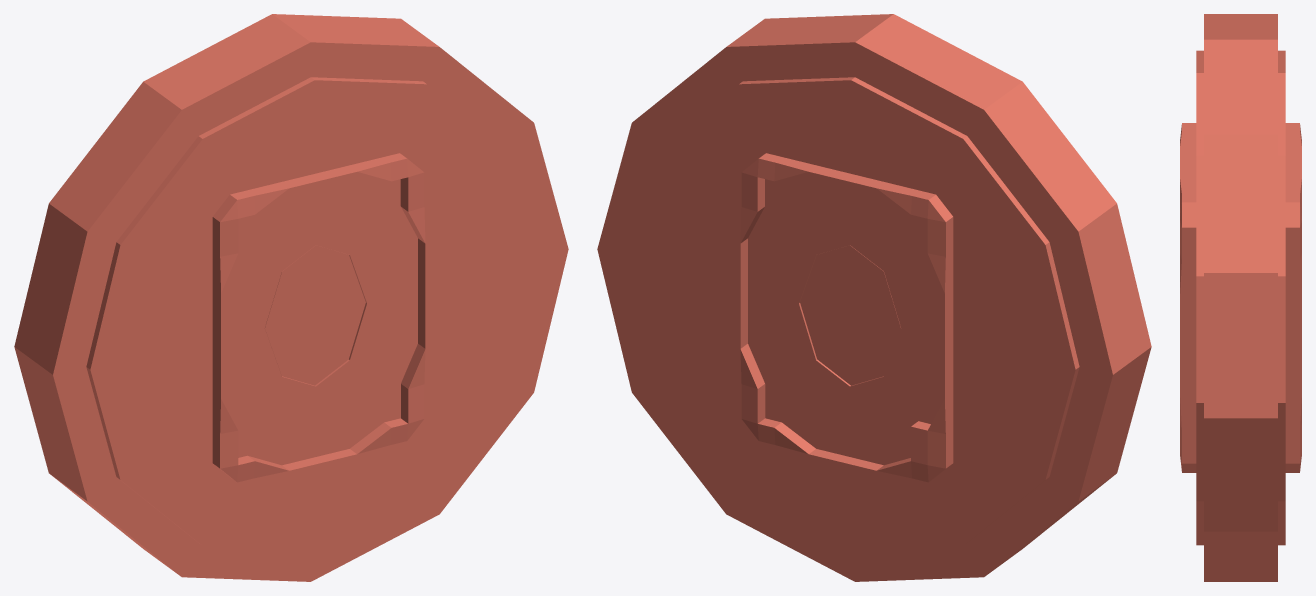
File: Coin.fbx
The picture shows the model from 3 angles, left to right: view 1: azimuth 30°, elevation 25°; view 2: azimuth 150°, elevation 25°; view 3: azimuth 270°, elevation 25°; orthographic projection. The views are drawn at different scales.
Parts seen in each view (by area): view 1: Cylinder.001; view 2: Cylinder.001; view 3: Cylinder.001.
Boxes of the visible parts, box(x1,y1,x2,y2) form: Cylinder.001: box(14, 14, 568, 581); Cylinder.001: box(597, 14, 1151, 581); Cylinder.001: box(1180, 14, 1301, 581).
Bounding box in the file's own units: 200 × 200 × 42.74.
